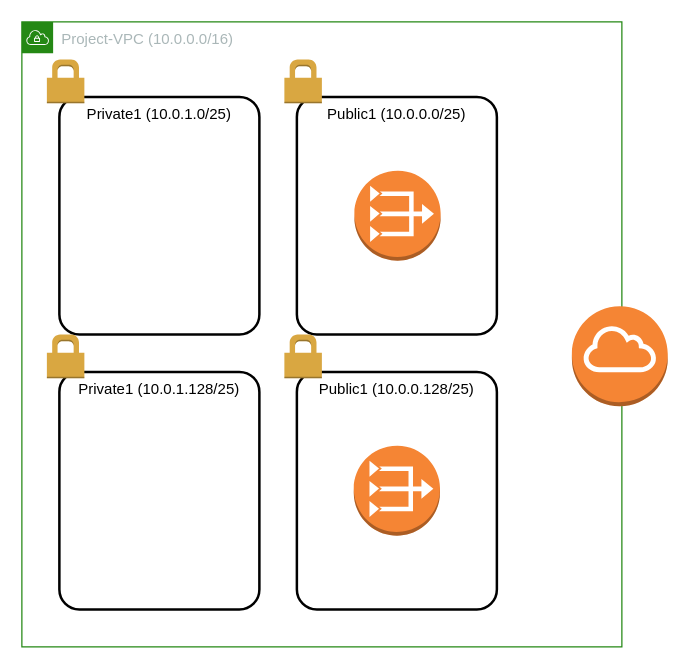
This 690x669 diagram has some shape labels left out. The shapes that lost their labels are listed below. From the top down, each one's centre as x and y in pixels, then its label:
pixel 397 215: NAT Gateway 1 (with Elastic IP)
pixel 396 490: NAT Gateway 2 (with Elastic IP)
